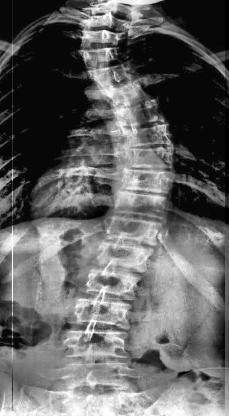Vertebrae: (62, 330, 130, 362), (77, 264, 139, 296), (90, 243, 156, 273), (66, 299, 134, 327), (106, 101, 168, 130), (82, 59, 138, 89), (115, 169, 180, 193), (125, 144, 185, 168), (103, 218, 168, 240), (111, 193, 173, 215), (102, 82, 152, 108), (116, 123, 170, 147), (78, 27, 130, 48), (80, 44, 128, 66), (85, 13, 135, 31)
